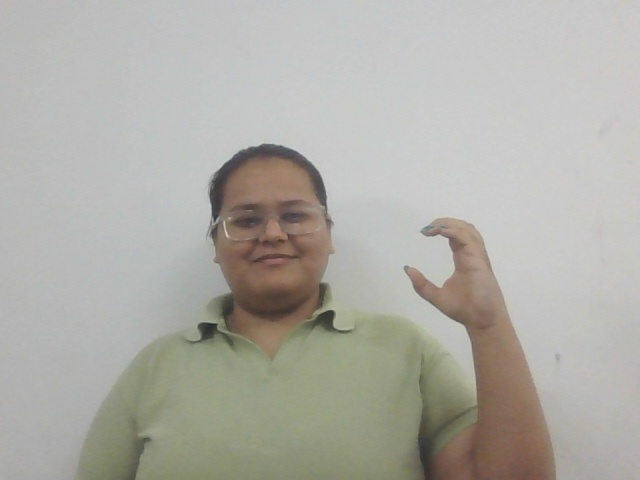C: (400, 213, 504, 333)
